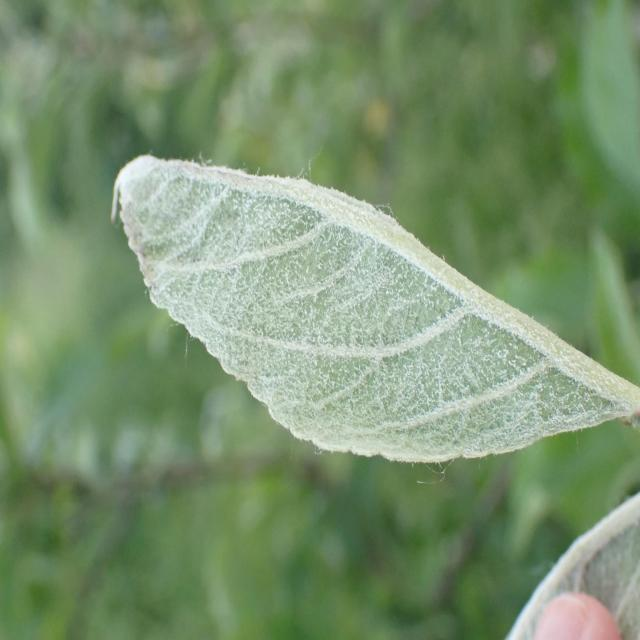Powdery_mildew: (89, 109, 640, 469), (480, 479, 640, 640)
